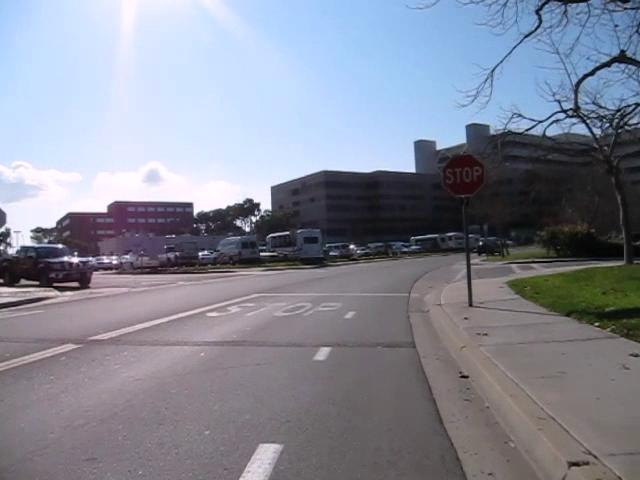stop: (441, 152, 487, 197)
